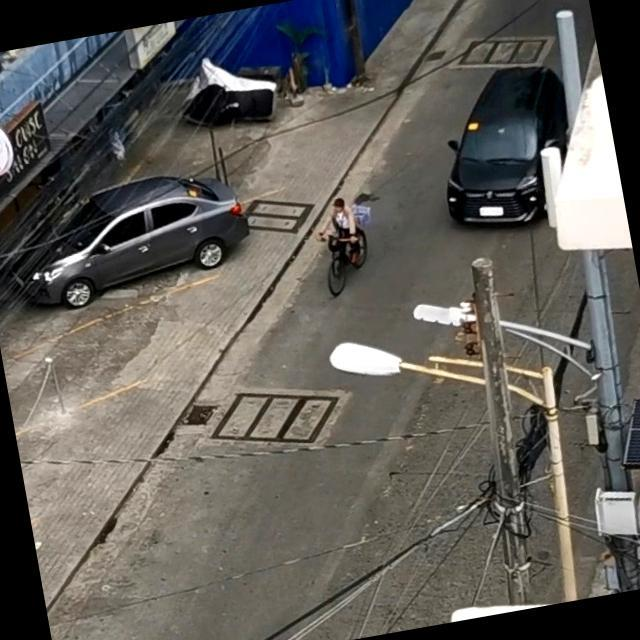Car: (3, 162, 248, 316), (424, 57, 584, 236)
